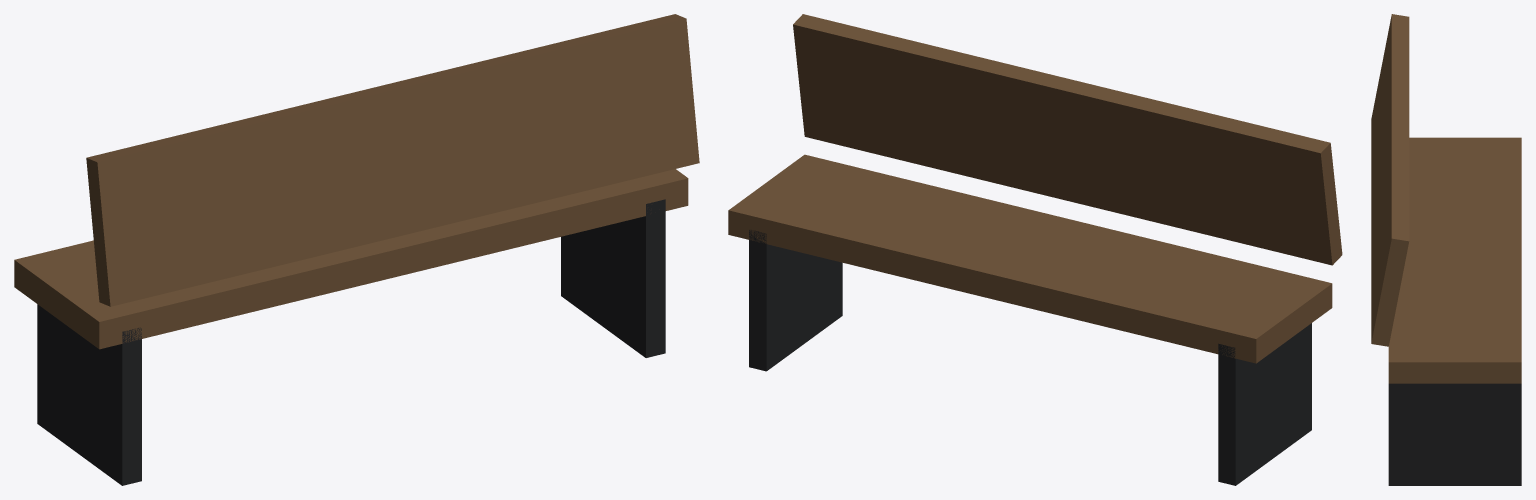
The model's file is Bench.fbx.
3 views of the same model, side by side, from view 1: azimuth 30°, elevation 25°; view 2: azimuth 150°, elevation 25°; view 3: azimuth 270°, elevation 25° (orthographic). The views are drawn at different scales.
Visible parts, largest first — view 1: Back, Seat, Leg-1, Leg1; view 2: Back, Seat, Leg-1, Leg1; view 3: Seat, Leg1, Back.
Part boxes in pixels (<box>): Back: <box>86,14,699,306</box>; Seat: <box>14,169,688,349</box>; Leg-1: <box>37,304,141,485</box>; Leg1: <box>561,199,665,357</box>; Back: <box>793,14,1342,265</box>; Seat: <box>728,154,1332,363</box>; Leg-1: <box>1218,323,1311,485</box>; Leg1: <box>749,230,842,371</box>; Seat: <box>1388,137,1521,383</box>; Leg1: <box>1388,383,1521,485</box>; Back: <box>1371,14,1409,346</box>.
Bounding box in the file's own units: 180 × 50.93 × 95.72.
